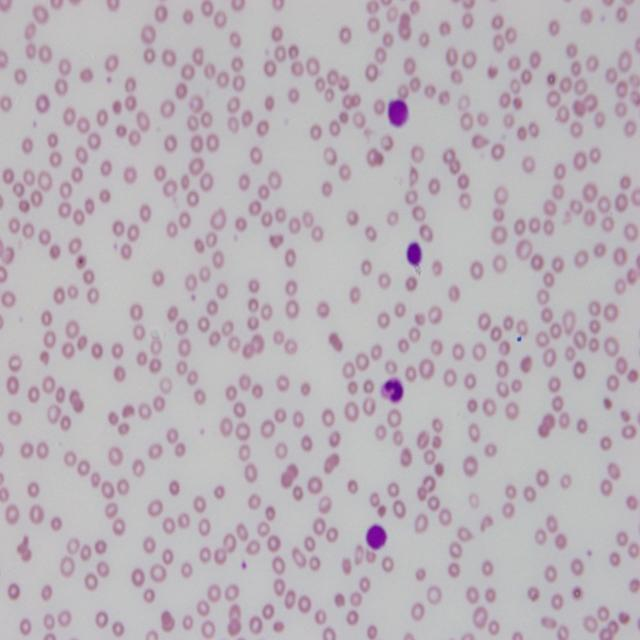cell: (389, 100, 408, 127), (366, 525, 386, 549), (406, 242, 422, 267)
